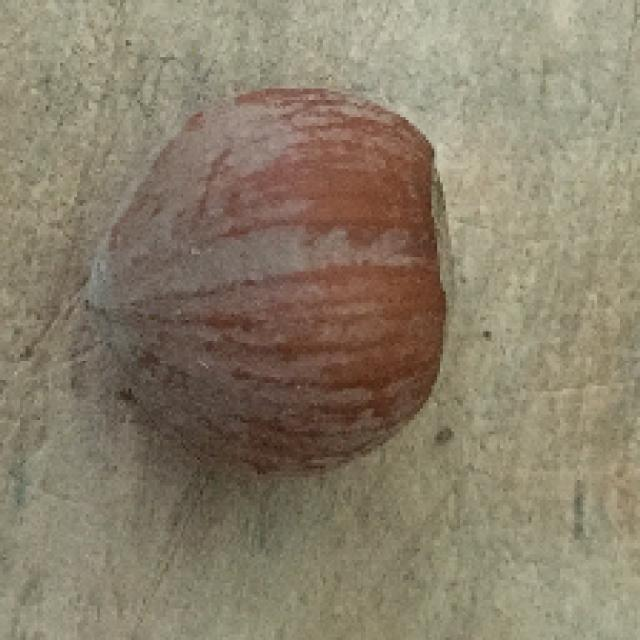qualityHazelnut: (68, 68, 468, 490)
